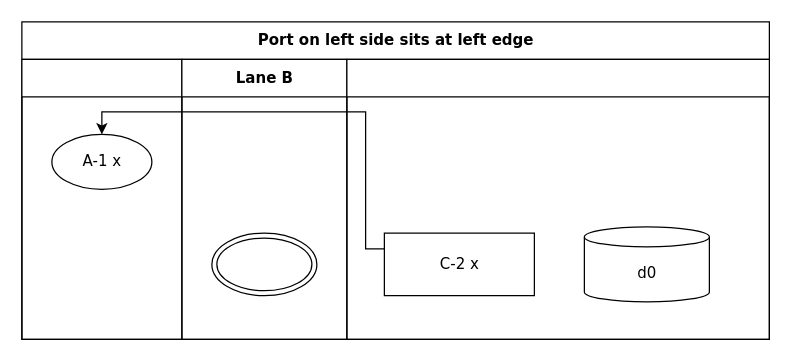
This 791x361 diagram has some shape labels left out. The box of each missing label's shape, as (x1, y1, x2, y2) in pixels:
B-3 x: (211, 232, 317, 296)
Lane A: (21, 58, 182, 339)
Lane C: (346, 58, 769, 339)
